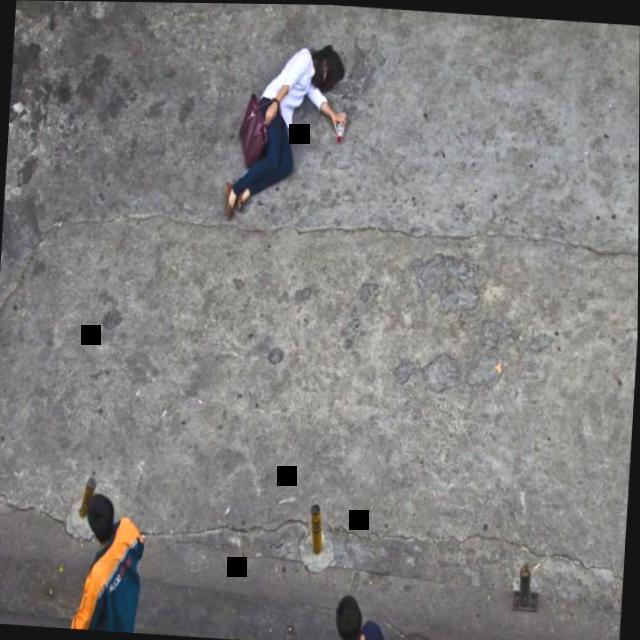Fall-Detected: (221, 19, 356, 231)
